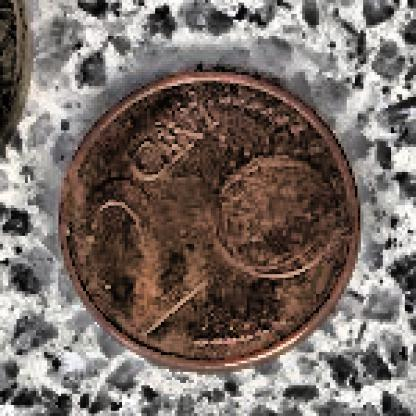coin: (66, 71, 357, 370)
